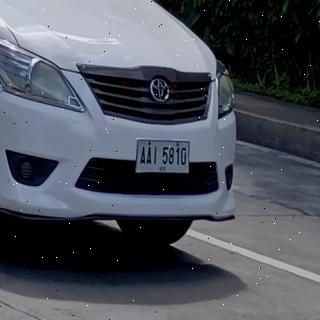license: (137, 142, 190, 174)
